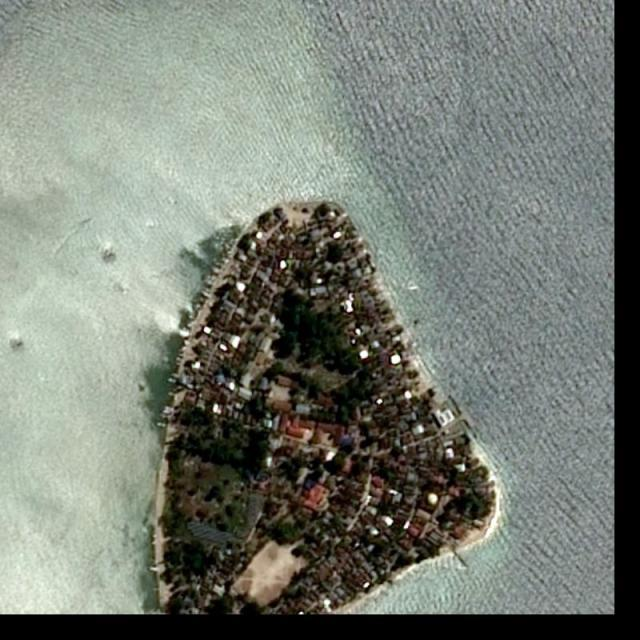ship: (82, 216, 92, 224), (409, 285, 419, 291)
